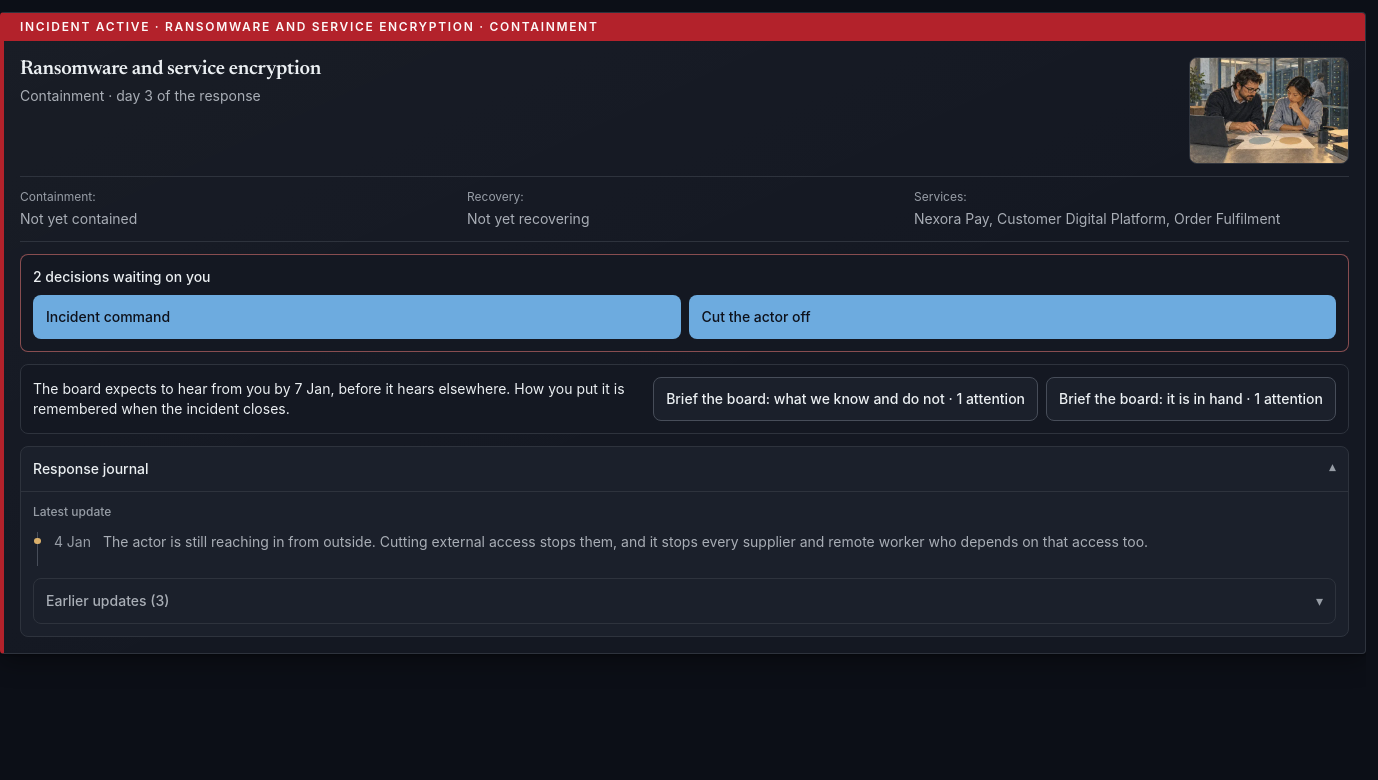
Scenario: offers Brief the board on a live incident, then says when it was briefed
Expected: the element labelled "The board" shows "The board expects to hear from you by", [33, 380, 624, 417]
Step 1. Click the button "Brief the board: what we know and do not · 1 attention" → (846, 399), box [653, 377, 1038, 421]
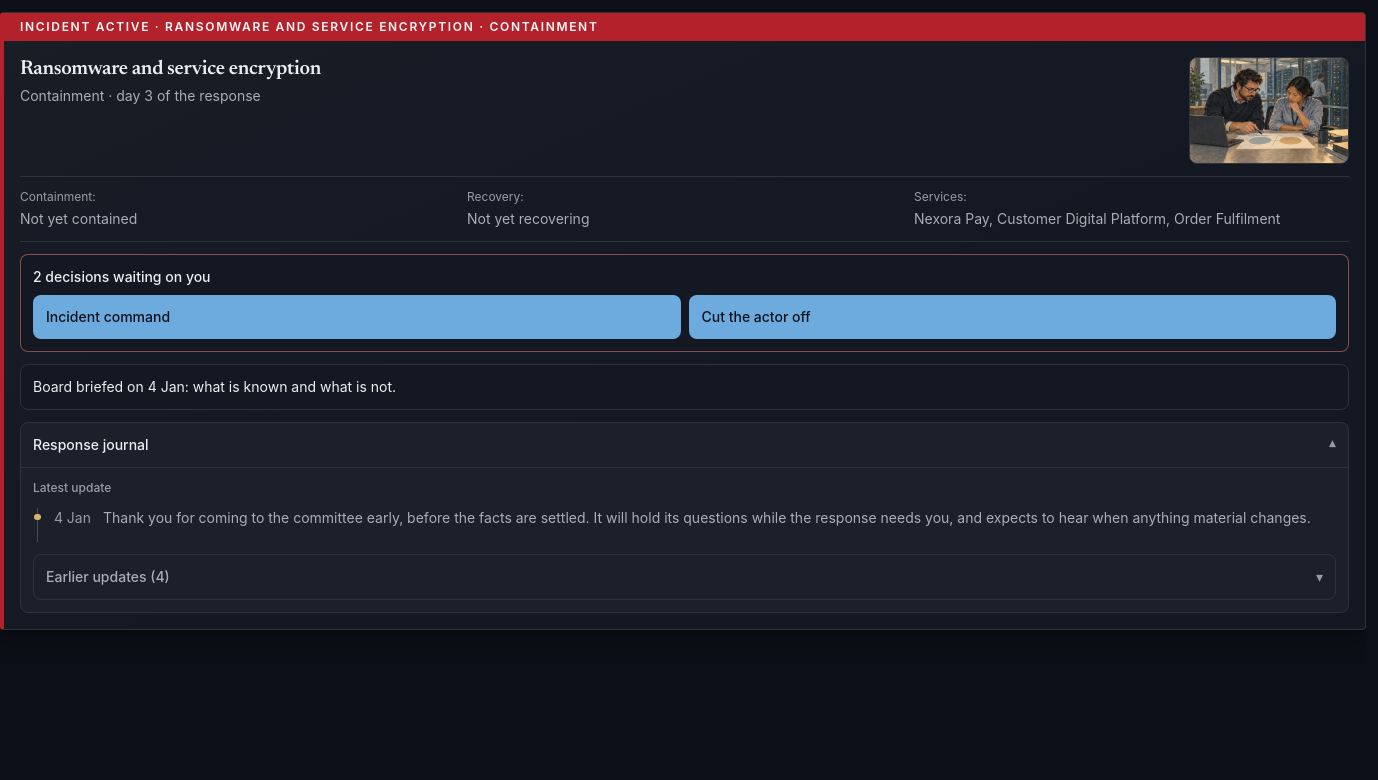
Now the element named "The board" shows "Board briefed on", box [33, 378, 396, 395]
Now the element named "The board" shows "what is known and what is not", box [33, 378, 396, 395]
Now the button "Brief the board: it is in hand · 1 attention" is gone
